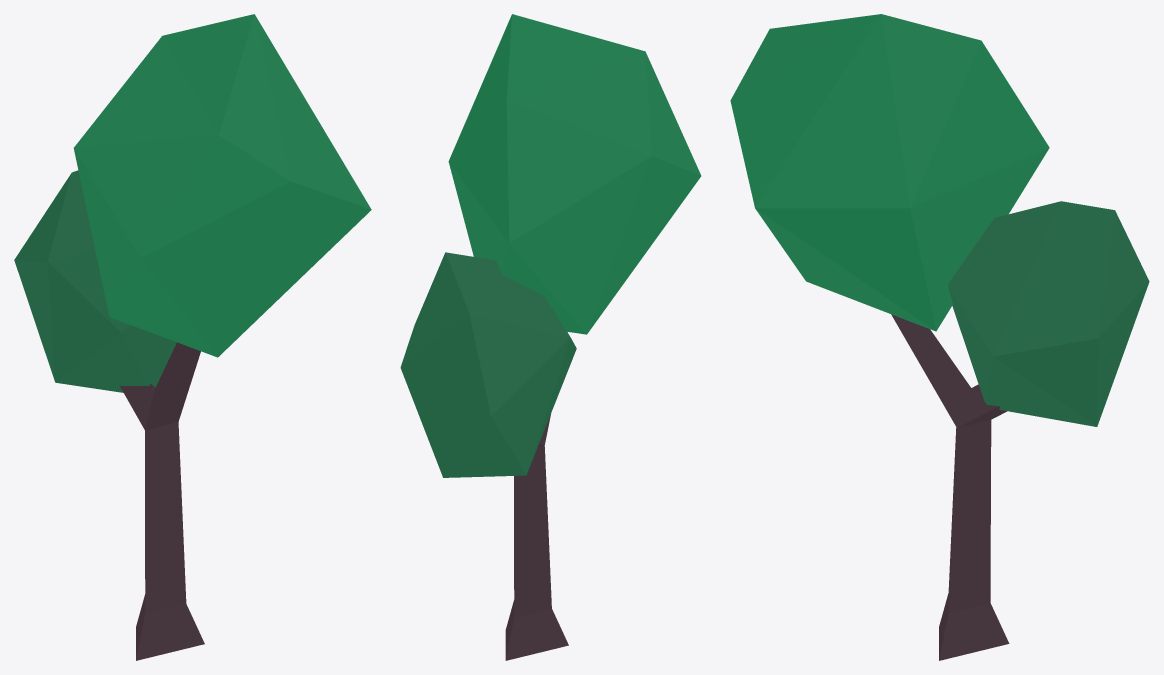
Rendered from grass_plains_tree.glb.
3 views of the same model, side by side, from view 1: azimuth 30°, elevation 25°; view 2: azimuth 150°, elevation 25°; view 3: azimuth 270°, elevation 25° (orthographic). The views are drawn at different scales.
Parts seen in each view (by area): view 1: Tree; view 2: Tree; view 3: Tree.
Part boxes in pixels (x1=…): Tree: x1=14, y1=14, x2=371, y2=660; Tree: x1=400, y1=14, x2=701, y2=660; Tree: x1=730, y1=14, x2=1149, y2=660.
Size of the model in its own units: 3.45 by 9.58 by 5.54.
